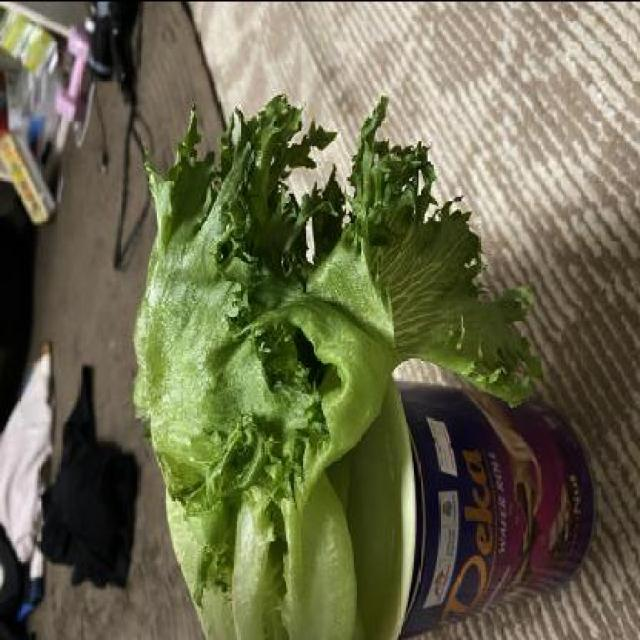Lettuce: (130, 90, 552, 640)
